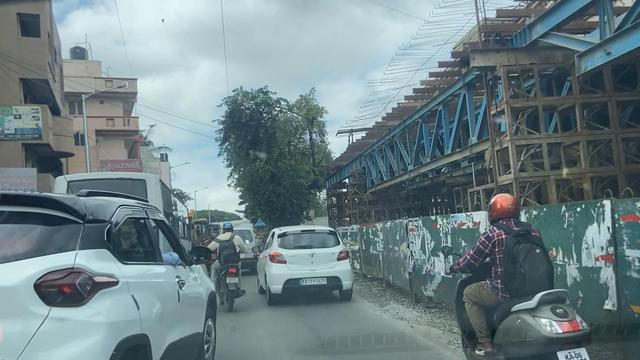LMV: (450, 207, 590, 360), (272, 229, 352, 303), (213, 224, 244, 307)
